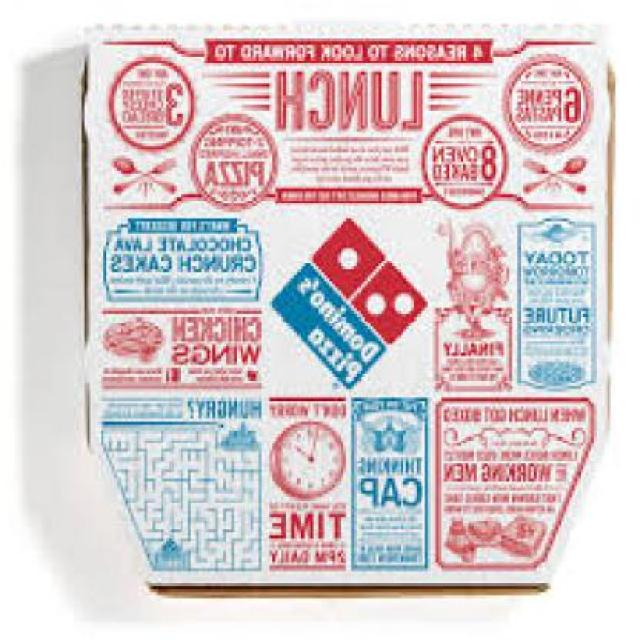CARDBOARD: (84, 23, 618, 595)
